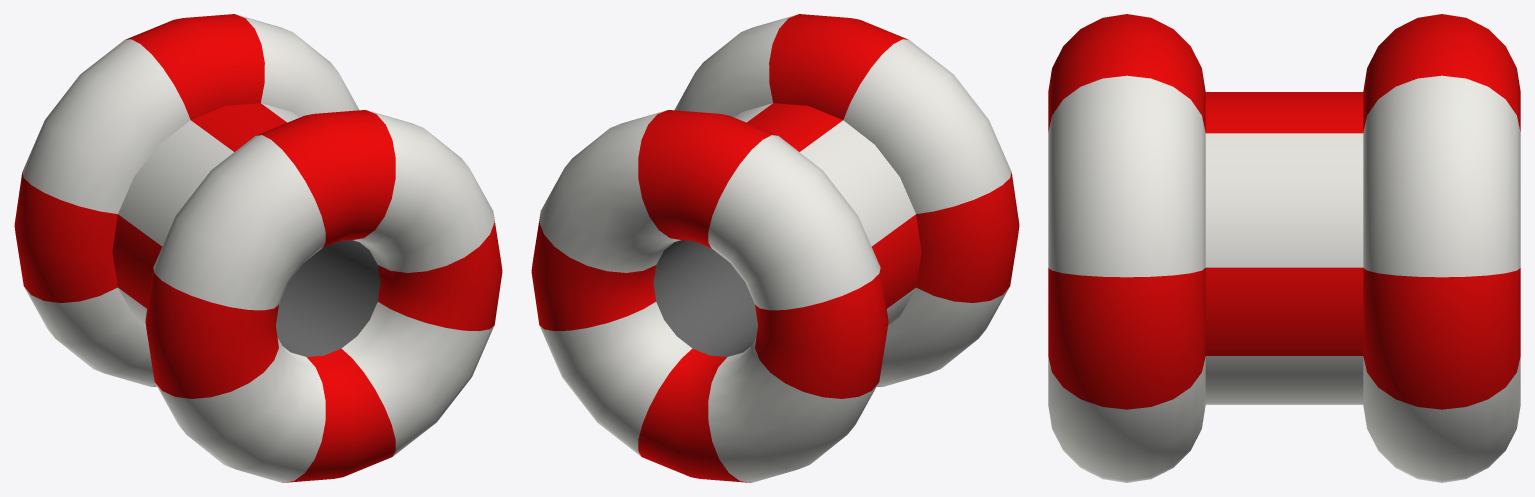
The model's file is windowPorthole.fbx.
The picture shows the model from 3 angles, left to right: view 1: azimuth 30°, elevation 25°; view 2: azimuth 150°, elevation 25°; view 3: azimuth 270°, elevation 25°; orthographic projection. The views are drawn at different scales.
Visible parts, largest first — view 1: windowPorthole; view 2: windowPorthole; view 3: windowPorthole.
Boxes of the visible parts, x1=… form: windowPorthole: x1=14, y1=14, x2=502, y2=482; windowPorthole: x1=531, y1=14, x2=1019, y2=482; windowPorthole: x1=1048, y1=14, x2=1520, y2=482.
Bounding box in the file's own units: 150 × 150 × 150.
